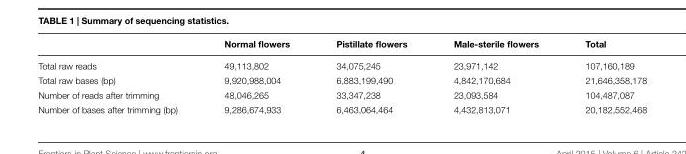table: (37, 37, 646, 114)
table column: (37, 37, 200, 114), (429, 37, 561, 114), (312, 37, 429, 114), (200, 37, 312, 114), (561, 37, 646, 114)
table column header: (37, 37, 646, 54)
table row: (37, 54, 646, 72), (37, 37, 646, 54), (37, 86, 646, 101), (37, 72, 646, 86), (37, 101, 646, 114)
